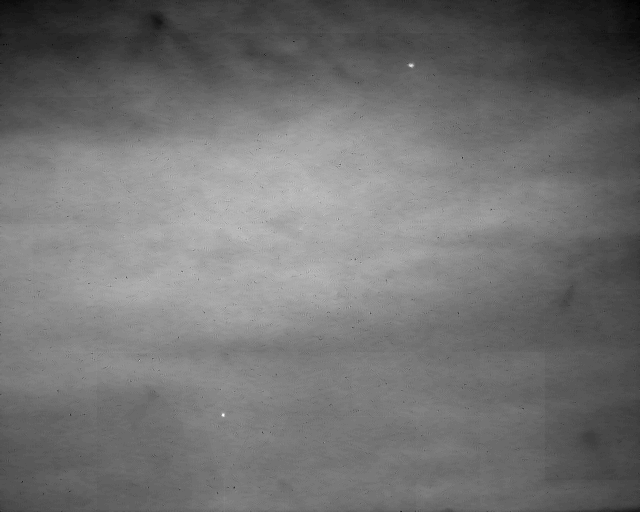Target: (407, 63, 416, 69), (221, 414, 226, 419)
